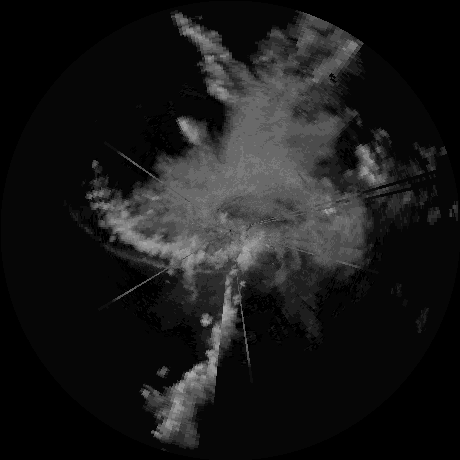frontgust: (87, 235, 166, 270), (192, 265, 231, 276)
